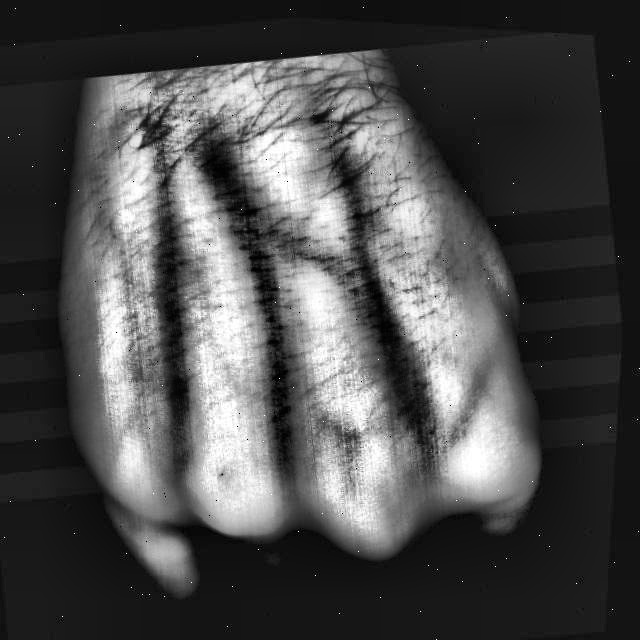Vein: (224, 214, 291, 383), (153, 184, 189, 363)
